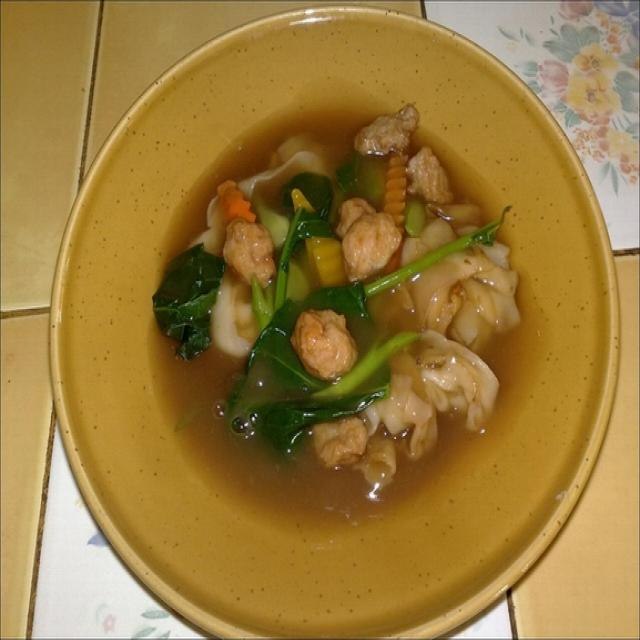面条主食: (73, 34, 609, 607)
